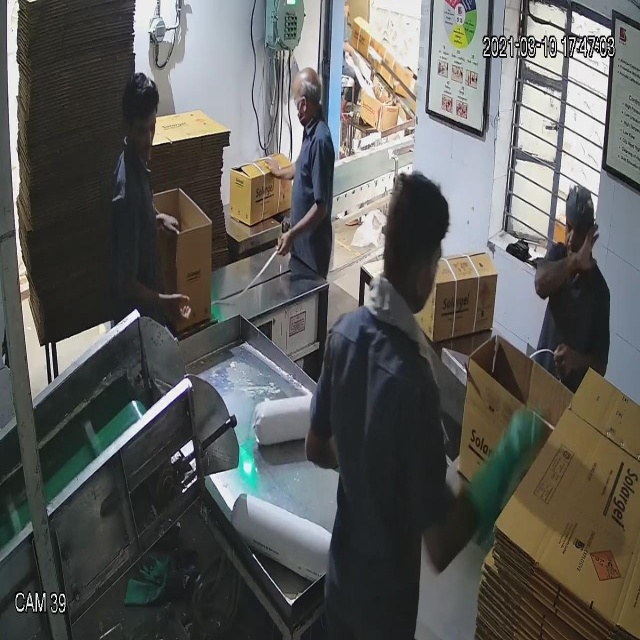Guantes: (468, 389, 545, 544)
Sin_guantes: (111, 251, 198, 340), (526, 219, 607, 311), (274, 187, 327, 267), (548, 334, 608, 397)
